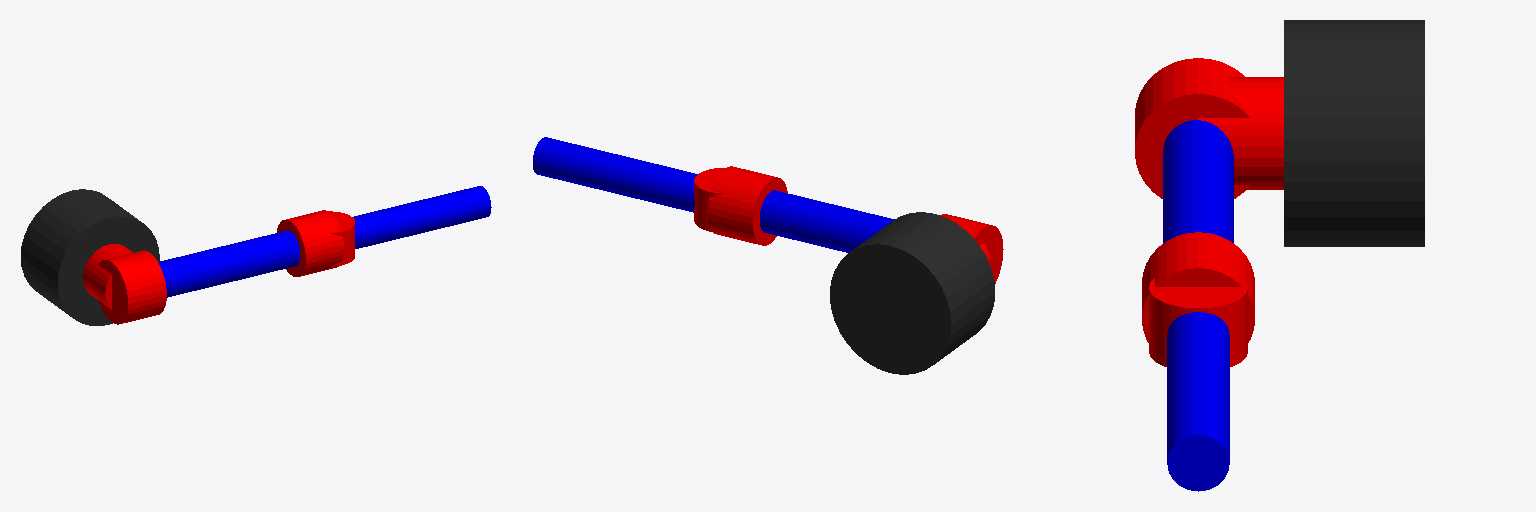
URDF robot description (mechelangelo_arm):
<?xml version="1.0"?>
<robot name="mechelangelo_arm">

  <!-- =========================
       MATERIALS
       ========================= -->
  <material name="red">
    <color rgba="1 0 0 1"/>
  </material>

  <material name="blue">
    <color rgba="0 0 1 1"/>
  </material>

  <material name="dark_grey">
    <color rgba="0.2 0.2 0.2 1"/>
  </material>

  <!-- =========================
       ROOT LINK
       ========================= -->
  <link name="base_footprint"/>

  <!-- =========================
       BASE
       ========================= -->
  <link name="base_link">
    <visual>
      <origin xyz="0 0 0" rpy="0 0 0"/>
      <geometry>
        <cylinder radius="0.08" length="0.10"/>
      </geometry>
      <material name="dark_grey"/>
    </visual>

    <collision>
      <origin xyz="0 0 0" rpy="0 0 0"/>
      <geometry>
        <cylinder radius="0.08" length="0.10"/>
      </geometry>
    </collision>

    <inertial>
      <origin xyz="0 0 0" rpy="0 0 0"/>
      <mass value="2.0"/>
      <inertia
        ixx="0.01" ixy="0.0" ixz="0.0"
        iyy="0.01" iyz="0.0"
        izz="0.01"/>
    </inertial>
  </link>

  <joint name="base_fixed_joint" type="fixed">
    <parent link="base_footprint"/>
    <child link="base_link"/>
    <origin xyz="0 0 0.05" rpy="1.5708 0 0"/>
  </joint>

  <!-- =========================
       SHOULDER JOINT 1
       ========================= -->
  <link name="joint1_link">
    <visual>
      <origin xyz="0 0 0" rpy="0 0 0"/>
      <geometry>
        <cylinder radius="0.04" length="0.06"/>
      </geometry>
      <material name="red"/>
    </visual>

    <collision>
      <origin xyz="0 0 0" rpy="0 0 0"/>
      <geometry>
        <cylinder radius="0.04" length="0.06"/>
      </geometry>
    </collision>

    <inertial>
      <origin xyz="0 0 0" rpy="0 0 0"/>
      <mass value="0.30"/>
      <inertia
        ixx="0.0005" ixy="0.0" ixz="0.0"
        iyy="0.0005" iyz="0.0"
        izz="0.0003"/>
    </inertial>
  </link>

  <joint name="joint1" type="revolute">
    <parent link="base_link"/>
    <child link="joint1_link"/>
    <origin xyz="0 0 0.08" rpy="0 0 0"/>
    <axis xyz="0 0 1"/>
    <limit lower="-3.1416" upper="3.1416" effort="20" velocity="1.5"/>
    <dynamics damping="0.1"/>
  </joint>

  <!-- =========================
       SHOULDER JOINT 2
       ========================= -->
  <link name="joint2_link">
    <visual>
      <origin xyz="0 0 0" rpy="0 1.5708 0"/>
      <geometry>
        <cylinder radius="0.045" length="0.06"/>
      </geometry>
      <material name="red"/>
    </visual>

    <collision>
      <origin xyz="0 0 0" rpy="0 1.5708 0"/>
      <geometry>
        <cylinder radius="0.045" length="0.06"/>
      </geometry>
    </collision>

    <inertial>
      <origin xyz="0 0 0" rpy="0 0 0"/>
      <mass value="0.25"/>
      <inertia
        ixx="0.0004" ixy="0.0" ixz="0.0"
        iyy="0.0004" iyz="0.0"
        izz="0.0002"/>
    </inertial>
  </link>

  <joint name="joint2" type="revolute">
    <parent link="joint1_link"/>
    <child link="joint2_link"/>
    <origin xyz="0 0 0.03" rpy="0 0 0"/>
    <axis xyz="0 1 0"/>
    <limit lower="-3.1416" upper="0" effort="15" velocity="1.5"/>
    <dynamics damping="0.1"/>
  </joint>

  <!-- =========================
       LINK 1
       ========================= -->
  <link name="link1">
    <visual>
      <origin xyz="0 0 0" rpy="0 1.5708 0"/>
      <geometry>
        <cylinder radius="0.025" length="0.28"/>
      </geometry>
      <material name="blue"/>
    </visual>

    <collision>
      <origin xyz="0 0 0" rpy="0 1.5708 0"/>
      <geometry>
        <cylinder radius="0.025" length="0.28"/>
      </geometry>
    </collision>

    <inertial>
      <origin xyz="0 0 0" rpy="0 0 0"/>
      <mass value="0.35"/>
      <inertia
        ixx="0.0020" ixy="0.0" ixz="0.0"
        iyy="0.0020" iyz="0.0"
        izz="0.0002"/>
    </inertial>
  </link>

  <joint name="joint2_to_link1" type="fixed">
    <parent link="joint2_link"/>
    <child link="link1"/>
    <origin xyz="0.14 0 0" rpy="0 0 0"/>
  </joint>

  <!-- =========================
       ELBOW JOINT 3
       ========================= -->
  <link name="joint3_link">
    <visual>
      <origin xyz="0 0 0" rpy="0 1.5708 0"/>
      <geometry>
        <cylinder radius="0.04" length="0.06"/>
      </geometry>
      <material name="red"/>
    </visual>

    <collision>
      <origin xyz="0 0 0" rpy="0 1.5708 0"/>
      <geometry>
        <cylinder radius="0.04" length="0.06"/>
      </geometry>
    </collision>

    <inertial>
      <origin xyz="0 0 0" rpy="0 0 0"/>
      <mass value="0.20"/>
      <inertia
        ixx="0.0003" ixy="0.0" ixz="0.0"
        iyy="0.0003" iyz="0.0"
        izz="0.00015"/>
    </inertial>
  </link>

  <joint name="joint3" type="revolute">
    <parent link="link1"/>
    <child link="joint3_link"/>
    <origin xyz="0.14 0 0" rpy="0 0 0"/>
    <axis xyz="1 0 0"/>
    <limit lower="-3.1416" upper="3.1416" effort="10" velocity="1.5"/>
    <dynamics damping="0.1"/>
  </joint>

  <!-- =========================
       ELBOW JOINT 4
       ========================= -->
  <link name="joint4_link">
    <visual>
      <origin xyz="0 0 0" rpy="1.5708 0 0"/>
      <geometry>
        <cylinder radius="0.035" length="0.05"/>
      </geometry>
      <material name="red"/>
    </visual>

    <collision>
      <origin xyz="0 0 0" rpy="1.5708 0 0"/>
      <geometry>
        <cylinder radius="0.035" length="0.05"/>
      </geometry>
    </collision>

    <inertial>
      <origin xyz="0 0 0" rpy="0 0 0"/>
      <mass value="0.15"/>
      <inertia
        ixx="0.0002" ixy="0.0" ixz="0.0"
        iyy="0.0002" iyz="0.0"
        izz="0.0001"/>
    </inertial>
  </link>

  <joint name="joint4" type="revolute">
    <parent link="joint3_link"/>
    <child link="joint4_link"/>
    <origin xyz="0.03 0 0" rpy="0 0 0"/>
    <axis xyz="0 1 0"/>
    <limit lower="-1.57" upper="1.57" effort="8" velocity="1.5"/>
    <dynamics damping="0.05"/>
  </joint>

  <!-- =========================
       LINK 2
       ========================= -->
  <link name="link2">
    <visual>
      <origin xyz="0 0 0" rpy="0 1.5708 0"/>
      <geometry>
        <cylinder radius="0.022" length="0.24"/>
      </geometry>
      <material name="blue"/>
    </visual>

    <collision>
      <origin xyz="0 0 0" rpy="0 1.5708 0"/>
      <geometry>
        <cylinder radius="0.022" length="0.24"/>
      </geometry>
    </collision>

    <inertial>
      <origin xyz="0 0 0" rpy="0 0 0"/>
      <mass value="0.25"/>
      <inertia
        ixx="0.0010" ixy="0.0" ixz="0.0"
        iyy="0.0010" iyz="0.0"
        izz="0.0001"/>
    </inertial>
  </link>

  <joint name="joint4_to_link2" type="fixed">
    <parent link="joint4_link"/>
    <child link="link2"/>
    <origin xyz="0.12 0 0" rpy="0 0 0"/>
  </joint>

  <!-- =========================
       GAZEBO: DISABLE GRAVITY
       ========================= -->
  
  <gazebo reference="base_link">
    <gravity>false</gravity>
  </gazebo>
  
  
  <gazebo reference="joint1_link">
    <gravity>false</gravity>
  </gazebo>

  <gazebo reference="joint2_link">
    <gravity>false</gravity>
  </gazebo>

  <gazebo reference="link1">
    <gravity>false</gravity>
  </gazebo>

  <gazebo reference="joint3_link">
    <gravity>false</gravity>
  </gazebo>

  <gazebo reference="joint4_link">
    <gravity>false</gravity>
  </gazebo>

  <gazebo reference="link2">
    <gravity>false</gravity>
  </gazebo>

</robot>

--- What the picture shows (computed from the rendered views, not written in the file) ---
The picture shows the robot from 3 angles, left to right: view 1: azimuth 30°, elevation 25°; view 2: azimuth 150°, elevation 25°; view 3: azimuth 270°, elevation 25°; orthographic projection.
Model mechelangelo_arm with 8 links and 7 joints (4 revolute, 3 fixed), rooted at base_footprint, posed all joints at 0.
Links seen in each view (by area): view 1: base_link, link1, link2, joint2_link, joint3_link, joint1_link, joint4_link; view 2: base_link, link2, link1, joint3_link, joint2_link, joint4_link; view 3: base_link, link2, link1, joint2_link, joint1_link, joint3_link, joint4_link.
Link boxes in pixels (left/top/right/bottom): base_link: left=21, top=189, right=159, bottom=325; link1: left=158, top=230, right=299, bottom=297; link2: left=353, top=186, right=491, bottom=248; joint2_link: left=98, top=250, right=166, bottom=324; joint3_link: left=277, top=210, right=343, bottom=276; joint1_link: left=83, top=244, right=132, bottom=309; joint4_link: left=328, top=211, right=354, bottom=266; base_link: left=830, top=212, right=994, bottom=374; link2: left=533, top=137, right=697, bottom=212; link1: left=760, top=190, right=894, bottom=252; joint3_link: left=707, top=166, right=787, bottom=245; joint2_link: left=940, top=214, right=1003, bottom=283; joint4_link: left=694, top=168, right=724, bottom=232; base_link: left=1284, top=20, right=1424, bottom=246; link2: left=1167, top=312, right=1229, bottom=491; link1: left=1163, top=120, right=1233, bottom=242; joint2_link: left=1135, top=58, right=1249, bottom=198; joint1_link: left=1198, top=77, right=1283, bottom=189; joint3_link: left=1142, top=232, right=1254, bottom=342; joint4_link: left=1149, top=278, right=1247, bottom=366.
Size in the robot's own frame: 0.63 by 0.205 by 0.16 metres.
Geometry: primitives only (box / cylinder / sphere), no mesh files.
